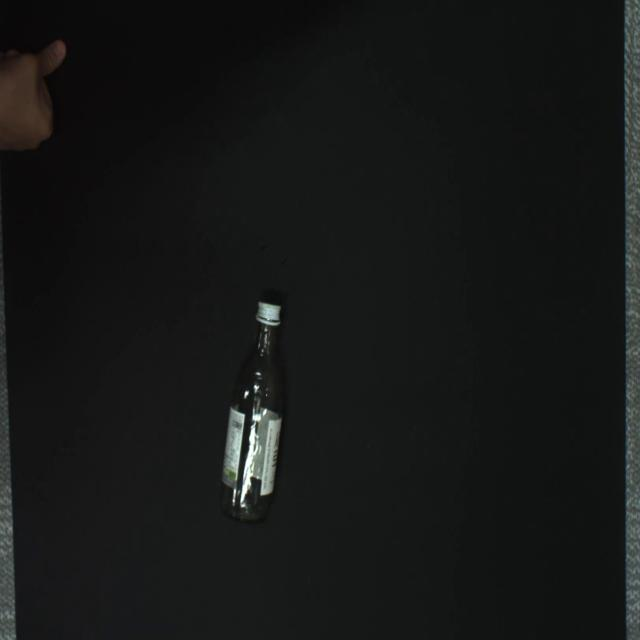soju-bottle: (219, 302, 285, 524)
